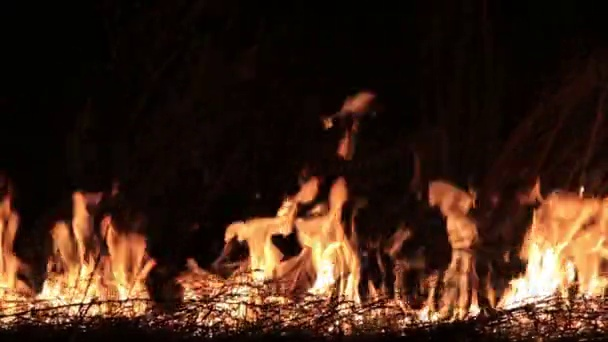fire: (186, 181, 359, 323), (497, 190, 608, 311), (41, 197, 148, 316), (418, 184, 482, 323), (1, 195, 17, 297)
